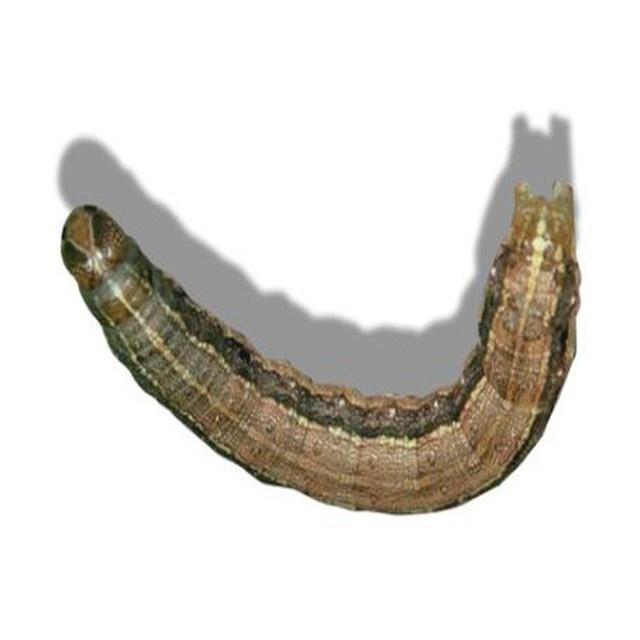gusano_cogollero: (58, 178, 575, 516)
